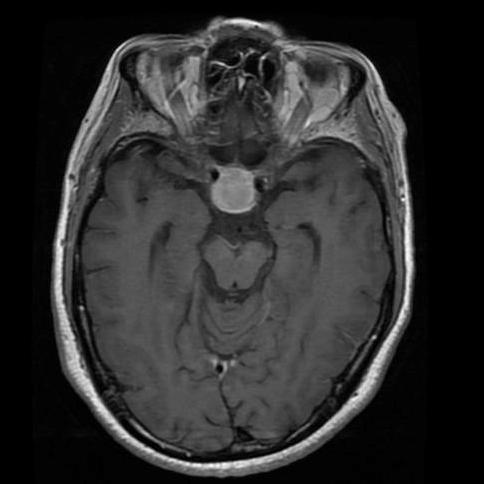Tumour-Pituitary: (206, 166, 263, 221)
